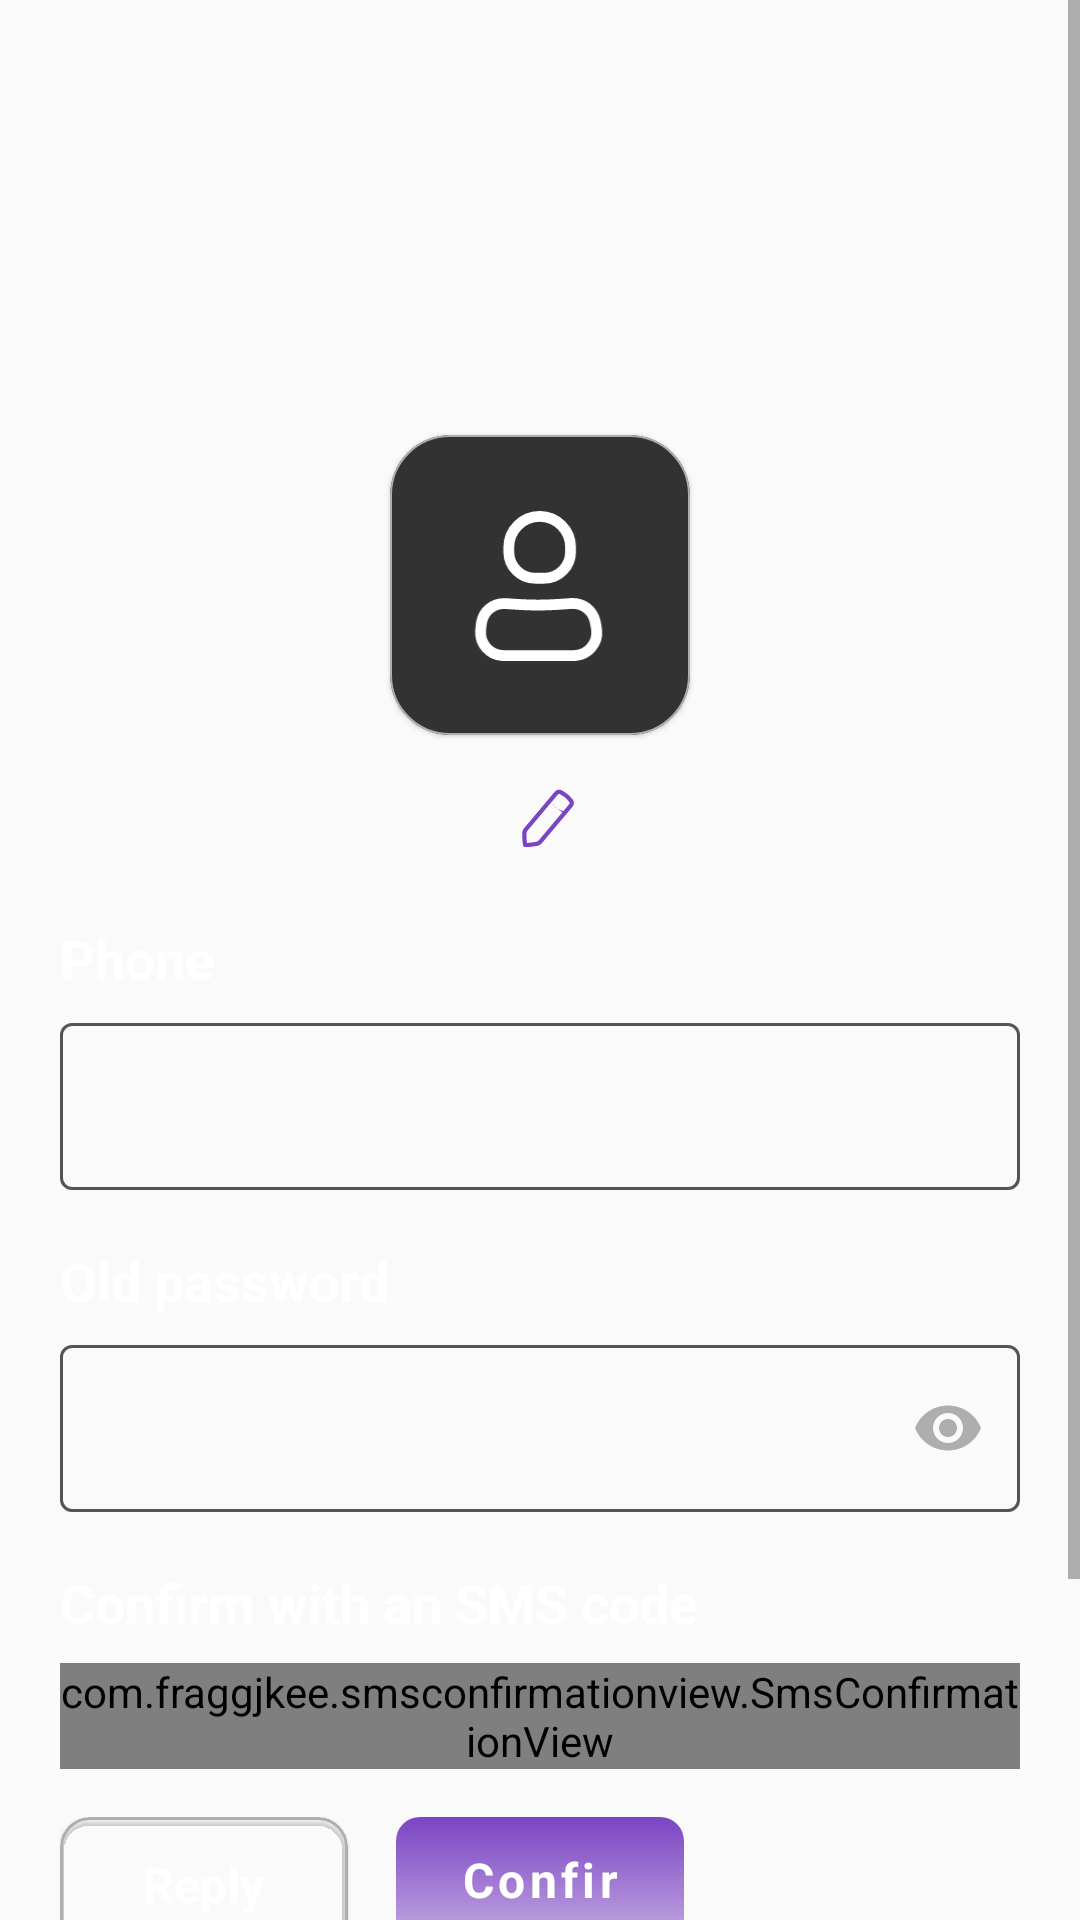

Icon bounding boxes for this 1080×1920 phone screenshot, format region(x1, y1, x2, y2):
edit: region(522, 789, 574, 847)
profile: region(474, 511, 603, 661)
